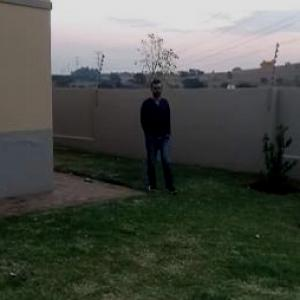follow: (136, 77, 175, 192)
